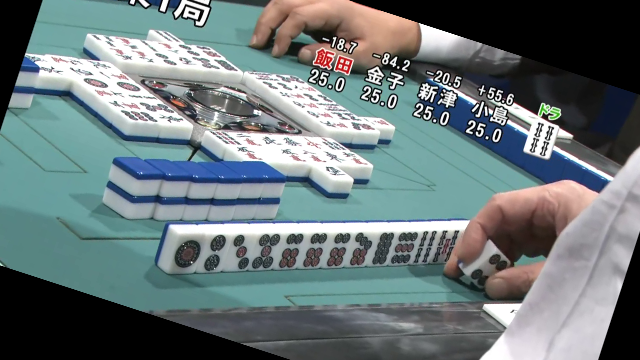Tehai: (160, 186, 510, 290)
